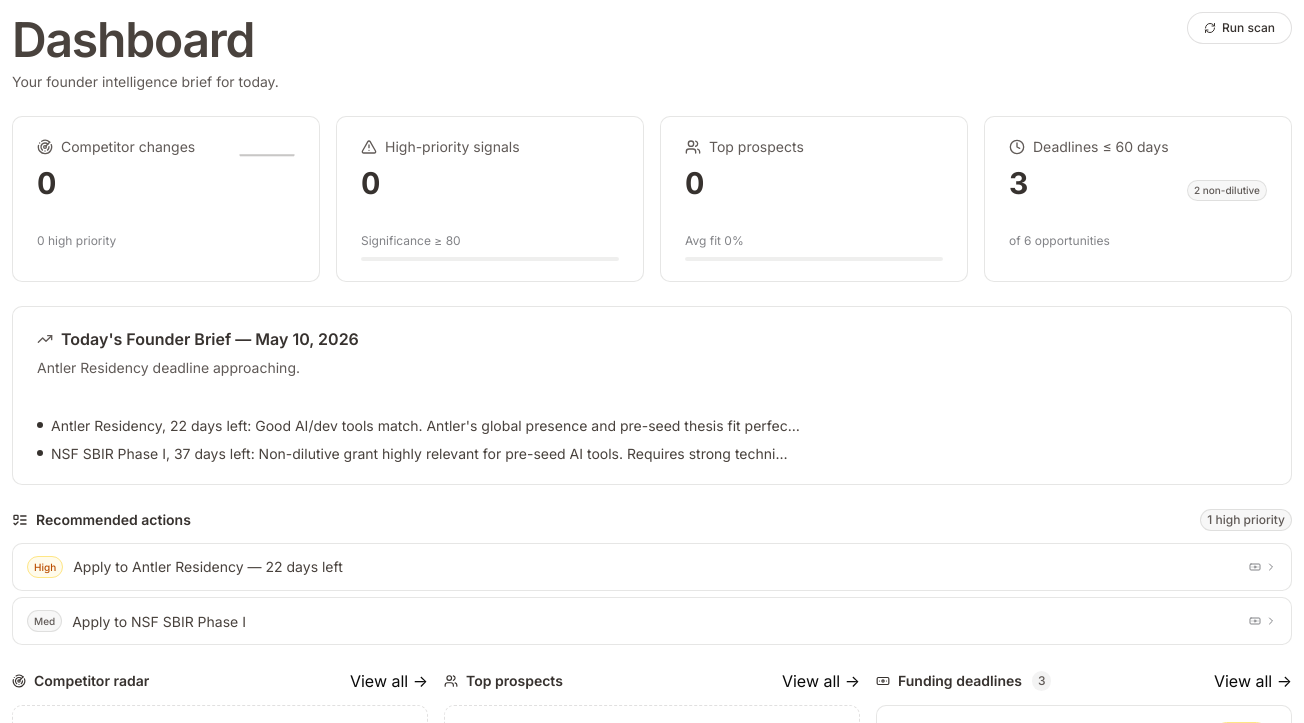
it: DashboardClient — error state › shows error banner on network error
Click the button with test id "refresh-button". click: (1240, 28)
box: [1187,12,1292,44]
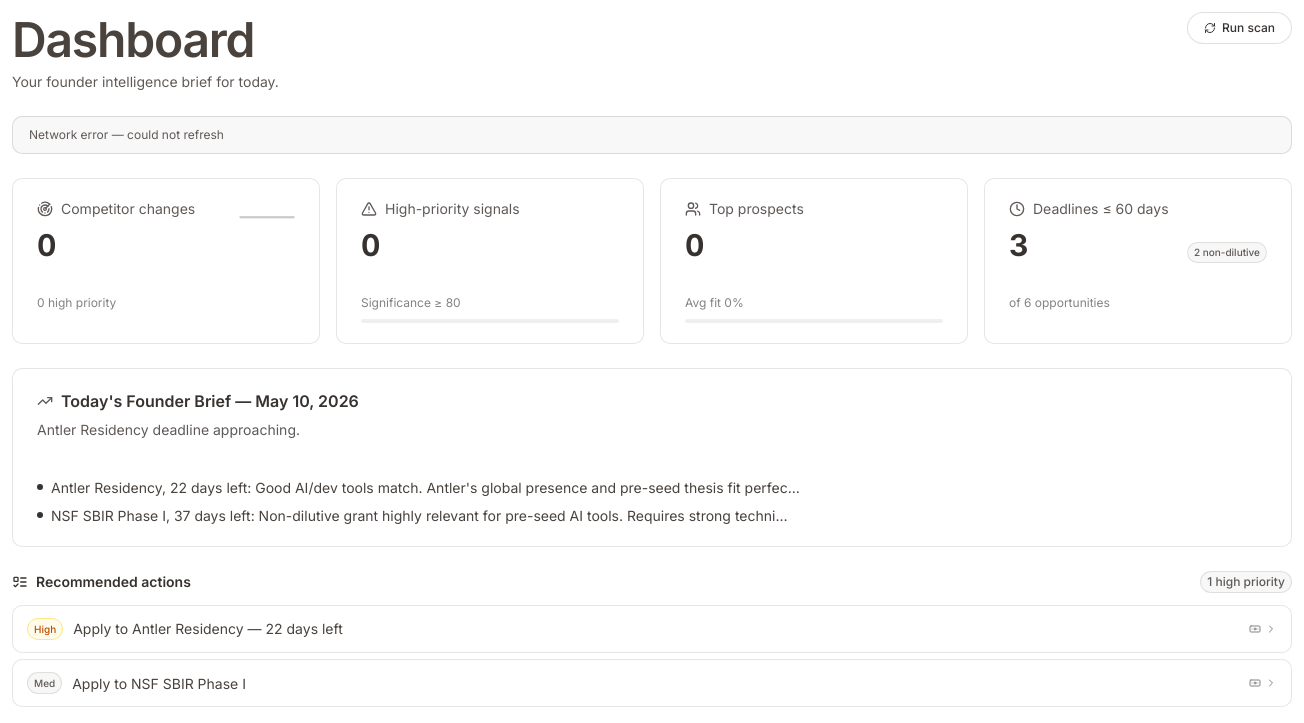
Result: the text "Network error — could not refresh" is shown at [12,116,1292,154]
